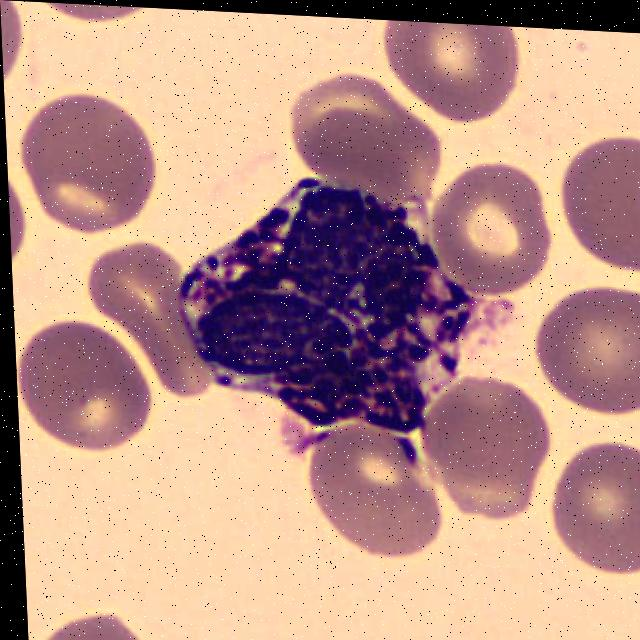basophil: (176, 173, 531, 435)
rbc: (9, 75, 178, 238), (275, 71, 457, 212), (92, 240, 235, 406), (293, 426, 441, 569), (14, 322, 154, 463), (431, 160, 555, 305), (424, 380, 552, 518), (532, 285, 640, 424), (379, 20, 524, 122), (544, 434, 640, 582), (555, 124, 640, 278), (32, 596, 166, 640), (31, 2, 183, 29), (6, 146, 26, 291), (0, 0, 29, 93)
